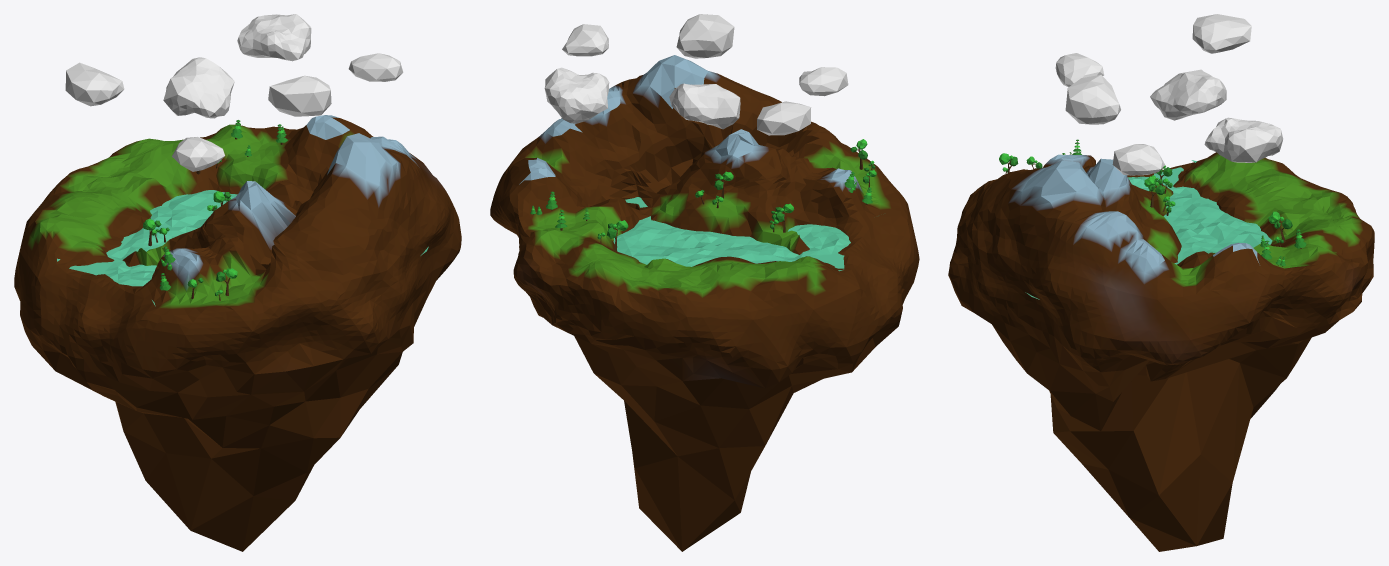
File: Island.glb
3 renders of one model, left to right at view 1: azimuth 30°, elevation 25°; view 2: azimuth 150°, elevation 25°; view 3: azimuth 270°, elevation 25°, orthographic. The views are drawn at different scales.
Parts seen in each view (by area): view 1: Icosphere, Plane, Icosphere.111, Icosphere.110, Icosphere.112, Icosphere.109, Icosphere.113, Icosphere.108; view 2: Icosphere, Plane, Icosphere.110, Icosphere.111, Icosphere.112, Icosphere.109, Icosphere.108, Icosphere.113; view 3: Icosphere, Plane, Icosphere.110, Icosphere.111, Icosphere.112, Icosphere.109, Icosphere.108, Icosphere.113.
Boxes of the visible parts, box(x1,y1,x2,y2) form: Icosphere: box(14, 115, 461, 551); Plane: box(57, 190, 428, 306); Icosphere.111: box(163, 57, 234, 118); Icosphere.110: box(237, 14, 311, 61); Icosphere.112: box(268, 75, 331, 116); Icosphere.109: box(65, 62, 124, 106); Icosphere.113: box(172, 137, 224, 171); Icosphere.108: box(348, 53, 403, 81); Icosphere: box(490, 55, 919, 551); Plane: box(613, 197, 850, 271); Icosphere.110: box(544, 67, 609, 123); Icosphere.111: box(669, 83, 740, 129); Icosphere.112: box(676, 14, 734, 58); Icosphere.109: box(757, 101, 811, 135); Icosphere.108: box(562, 24, 608, 56); Icosphere.113: box(799, 67, 848, 96); Icosphere: box(948, 152, 1374, 551); Plane: box(1025, 160, 1272, 299); Icosphere.110: box(1204, 117, 1283, 162); Icosphere.111: box(1150, 69, 1226, 120); Icosphere.112: box(1065, 75, 1120, 124); Icosphere.109: box(1192, 14, 1251, 53); Icosphere.108: box(1112, 144, 1164, 175); Icosphere.113: box(1055, 53, 1104, 87).
Size of the model in its own units: 28.04 by 33.72 by 27.15.
